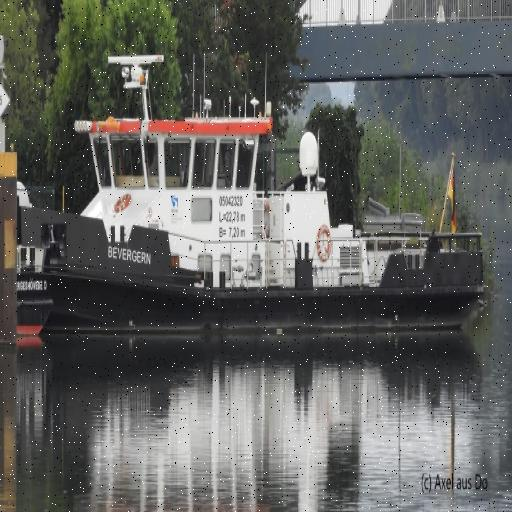tugboat: (16, 53, 490, 352)
